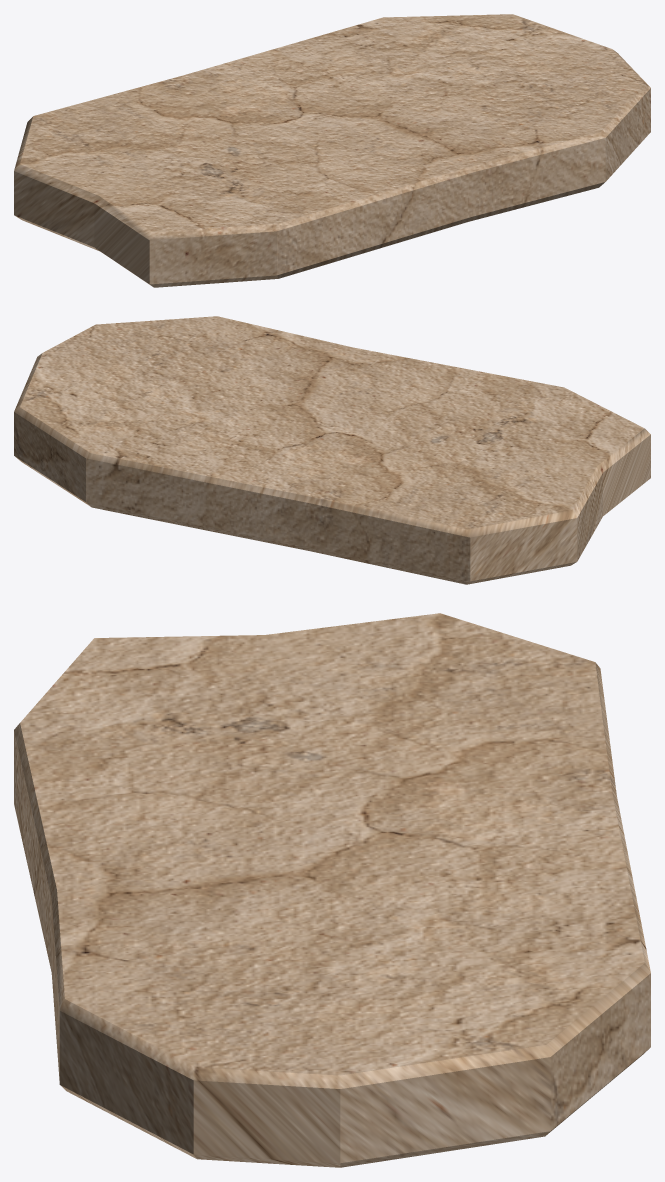
File: stepping_stone_2.glb
3 views of the same model, one above another, from view 1: azimuth 30°, elevation 25°; view 2: azimuth 150°, elevation 25°; view 3: azimuth 270°, elevation 25° (orthographic). The views are drawn at different scales.
Visible parts, largest first — view 1: LivingIsland_SteppingStone_2; view 2: LivingIsland_SteppingStone_2; view 3: LivingIsland_SteppingStone_2.
Boxes of the visible parts, box(x1,y1,x2,y2) form: LivingIsland_SteppingStone_2: box(14, 14, 650, 287); LivingIsland_SteppingStone_2: box(14, 316, 650, 584); LivingIsland_SteppingStone_2: box(14, 613, 650, 1167).
Size of the model in its own units: 0.7757 by 0.0728 by 0.4439.
Materials: 1 (1 with a texture image).
